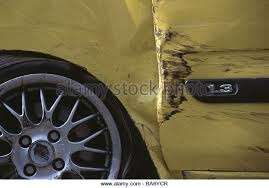Scratch: (150, 25, 204, 131)
